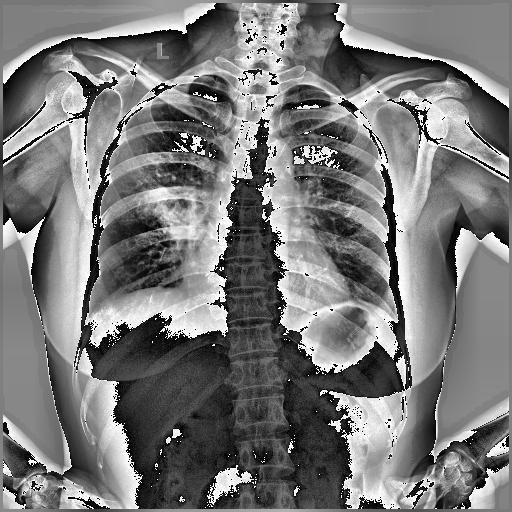13- Pulmonary fibrosis: (143, 190, 207, 244)
3- Cardiomegaly: (181, 252, 352, 304), (180, 260, 352, 308)
6- Infiltration: (141, 182, 206, 242), (143, 190, 207, 244), (134, 188, 200, 238)
7- Lung Opacity: (143, 190, 207, 244), (134, 188, 200, 238)
